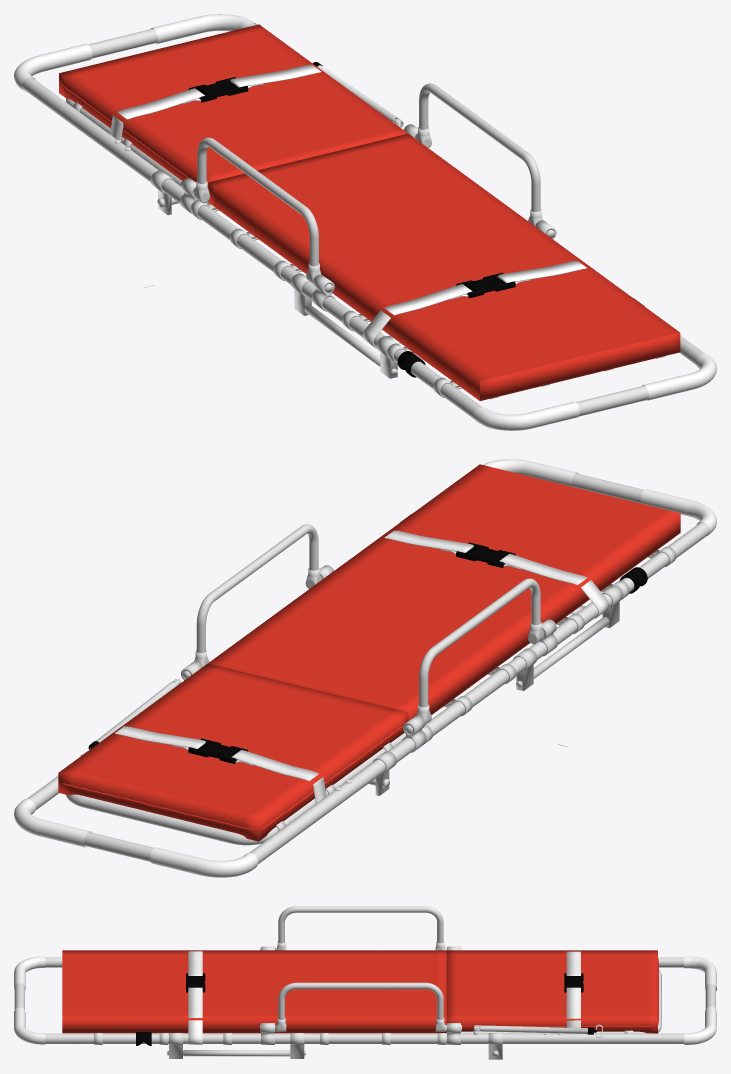
The model's file is stretcher-er.glb.
3 renders of one model, top to bottom at view 1: azimuth 30°, elevation 25°; view 2: azimuth 150°, elevation 25°; view 3: azimuth 270°, elevation 25°, orthographic. The views are drawn at different scales.
Visible parts, largest first — view 1: Cube.001, Cube.003, Circle, Circle.050, Circle.001, Circle.015, Circle.071, Circle.082, Circle.083, Circle.084, Circle.054, Circle.076 (+2 smaller); view 2: Cube.001, Cube.003, Circle, Circle.006, Circle.050, Circle.001, Circle.015, Circle.071, Circle.084, Circle.083, Circle.082, Circle.054 (+4 smaller); view 3: Cube.001, Cube.003, Circle, Circle.015, Circle.001, Circle.050, Circle.071, Circle.004, Circle.073, Circle.083, Circle.054, Circle.084 (+10 smaller).
Boxes of the visible parts, left/top/right/bottom form: Cube.001: left=208, top=133, right=680, bottom=400; Cube.003: left=59, top=24, right=407, bottom=201; Circle: left=22, top=23, right=704, bottom=430; Circle.050: left=362, top=260, right=586, bottom=348; Circle.001: left=197, top=137, right=318, bottom=266; Circle.015: left=419, top=83, right=540, bottom=211; Circle.071: left=110, top=64, right=321, bottom=140; Circle.082: left=474, top=401, right=579, bottom=430; Circle.083: left=151, top=14, right=257, bottom=44; Circle.084: left=14, top=43, right=92, bottom=92; Circle.054: left=642, top=353, right=716, bottom=400; Circle.076: left=304, top=304, right=397, bottom=375; Cube.001: left=208, top=464, right=680, bottom=720; Cube.003: left=58, top=663, right=408, bottom=841; Circle: left=17, top=473, right=709, bottom=864; Circle.006: left=66, top=733, right=405, bottom=845; Circle.050: left=384, top=530, right=609, bottom=618; Circle.001: left=419, top=578, right=540, bottom=707; Circle.015: left=196, top=524, right=318, bottom=652; Circle.071: left=114, top=726, right=326, bottom=803; Circle.084: left=150, top=847, right=258, bottom=877; Circle.083: left=14, top=798, right=91, bottom=847; Circle.082: left=640, top=489, right=716, bottom=536; Circle.054: left=483, top=459, right=578, bottom=486; Cube.001: left=62, top=950, right=446, bottom=1033; Cube.003: left=446, top=950, right=657, bottom=1033; Circle: left=14, top=957, right=715, bottom=1043; Circle.015: left=278, top=982, right=443, bottom=1019; Circle.001: left=278, top=906, right=443, bottom=943; Circle.050: left=188, top=951, right=202, bottom=1044; Circle.071: left=566, top=951, right=580, bottom=1027; Circle.004: left=474, top=1025, right=593, bottom=1034; Circle.073: left=167, top=1050, right=305, bottom=1056; Circle.083: left=684, top=1006, right=716, bottom=1044; Circle.054: left=14, top=1007, right=45, bottom=1044; Circle.084: left=684, top=956, right=716, bottom=991.
Size of the model in its own units: 16.24 by 5.08 by 42.19.
